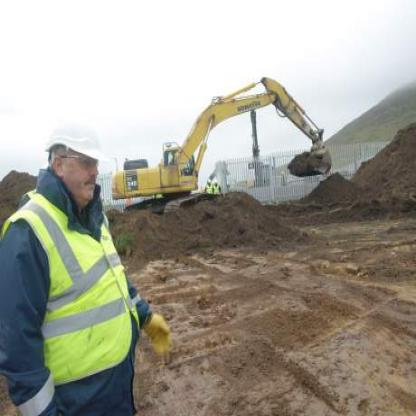person: (3, 122, 183, 415)
